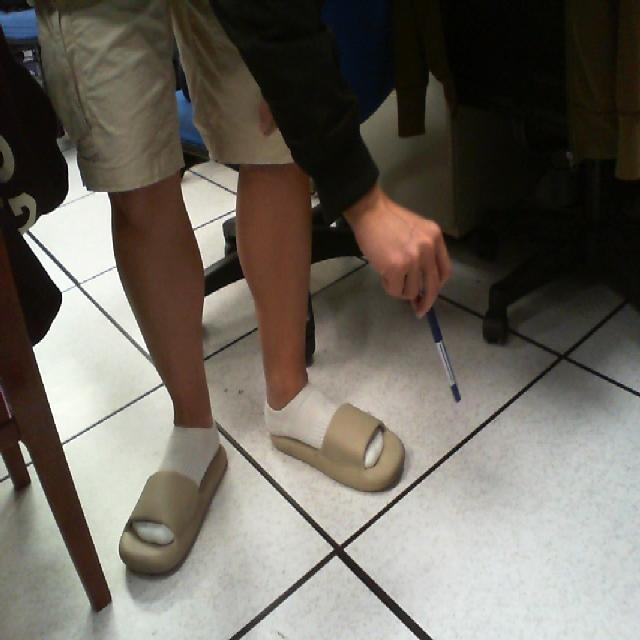Pen: (412, 265, 474, 436)
